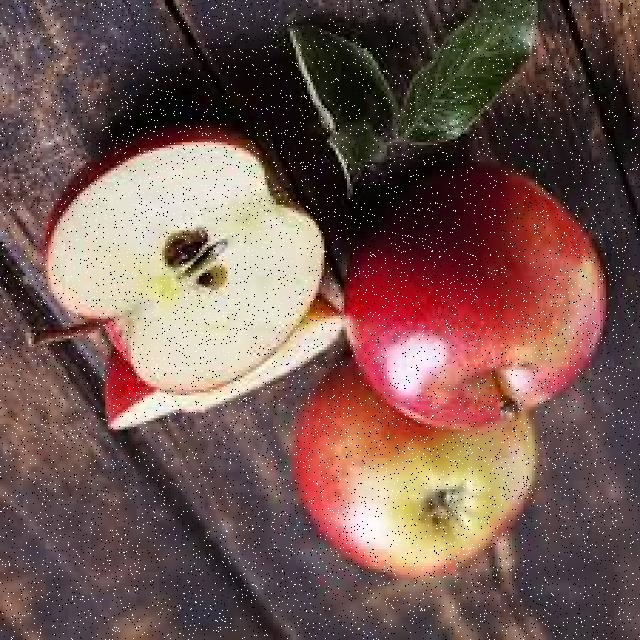Apple: (44, 136, 324, 396), (353, 167, 606, 428), (294, 406, 538, 580), (106, 313, 353, 425)
